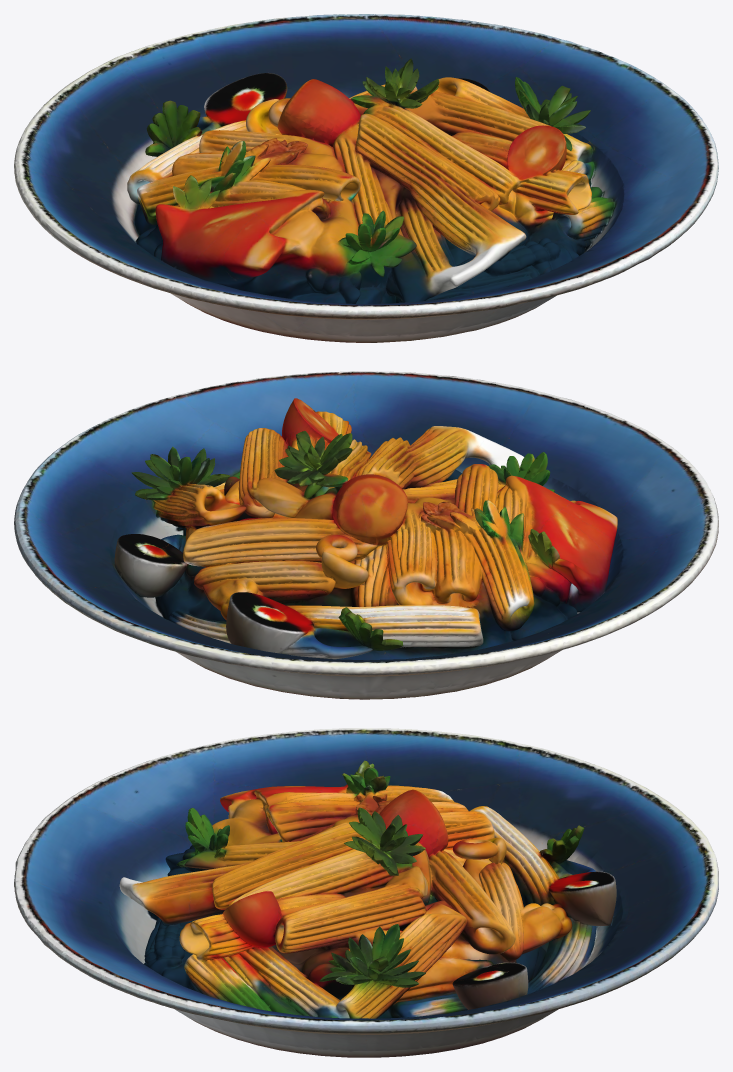
Rendered from Pasta.glb.
The picture shows the model from 3 angles, top to bottom: view 1: azimuth 30°, elevation 25°; view 2: azimuth 150°, elevation 25°; view 3: azimuth 270°, elevation 25°; orthographic projection.
Visible parts, largest first — view 1: tmp0xigknf4obj; view 2: tmp0xigknf4obj; view 3: tmp0xigknf4obj.
Part boxes in pixels (bbox=[...]): tmp0xigknf4obj: bbox=[14, 14, 718, 342]; tmp0xigknf4obj: bbox=[14, 371, 718, 699]; tmp0xigknf4obj: bbox=[14, 728, 718, 1057].
Bounding box in the file's own units: 0.9999 × 0.2767 × 0.9996.
Materials: 1 (1 with a texture image).
